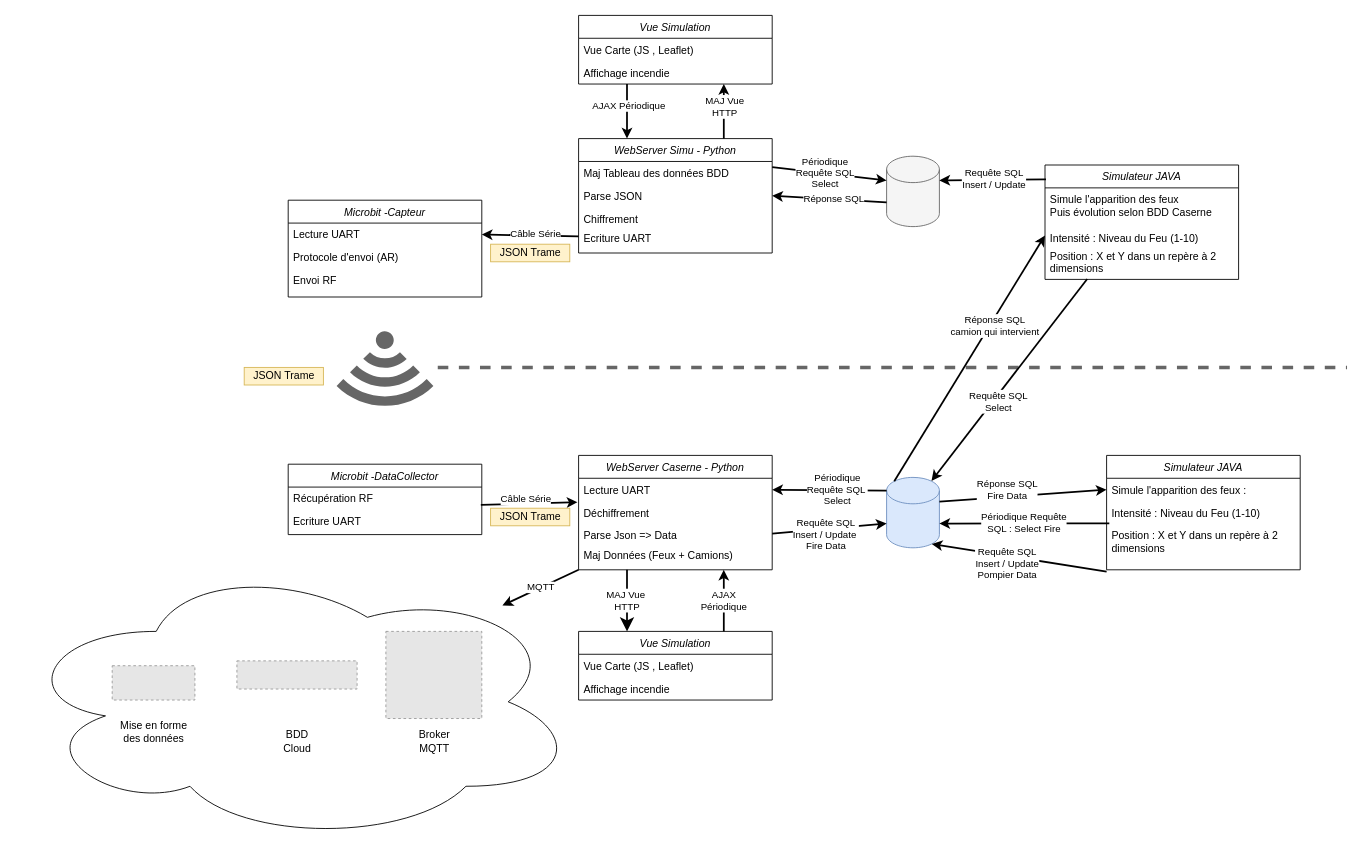
Some shapes in this 1365 by 858 pixel diagram are drawn without their labels. Grey dashed boxes stand in for pictures. Here are the shapes that lost their labels. From the top down, the centre of each, then its label:
pixel 912 191: BDD Simu
pixel 912 512: BDD Caserne
